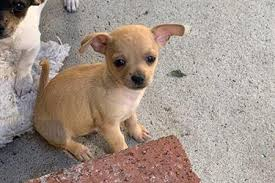chihuahua: (26, 12, 192, 162)
